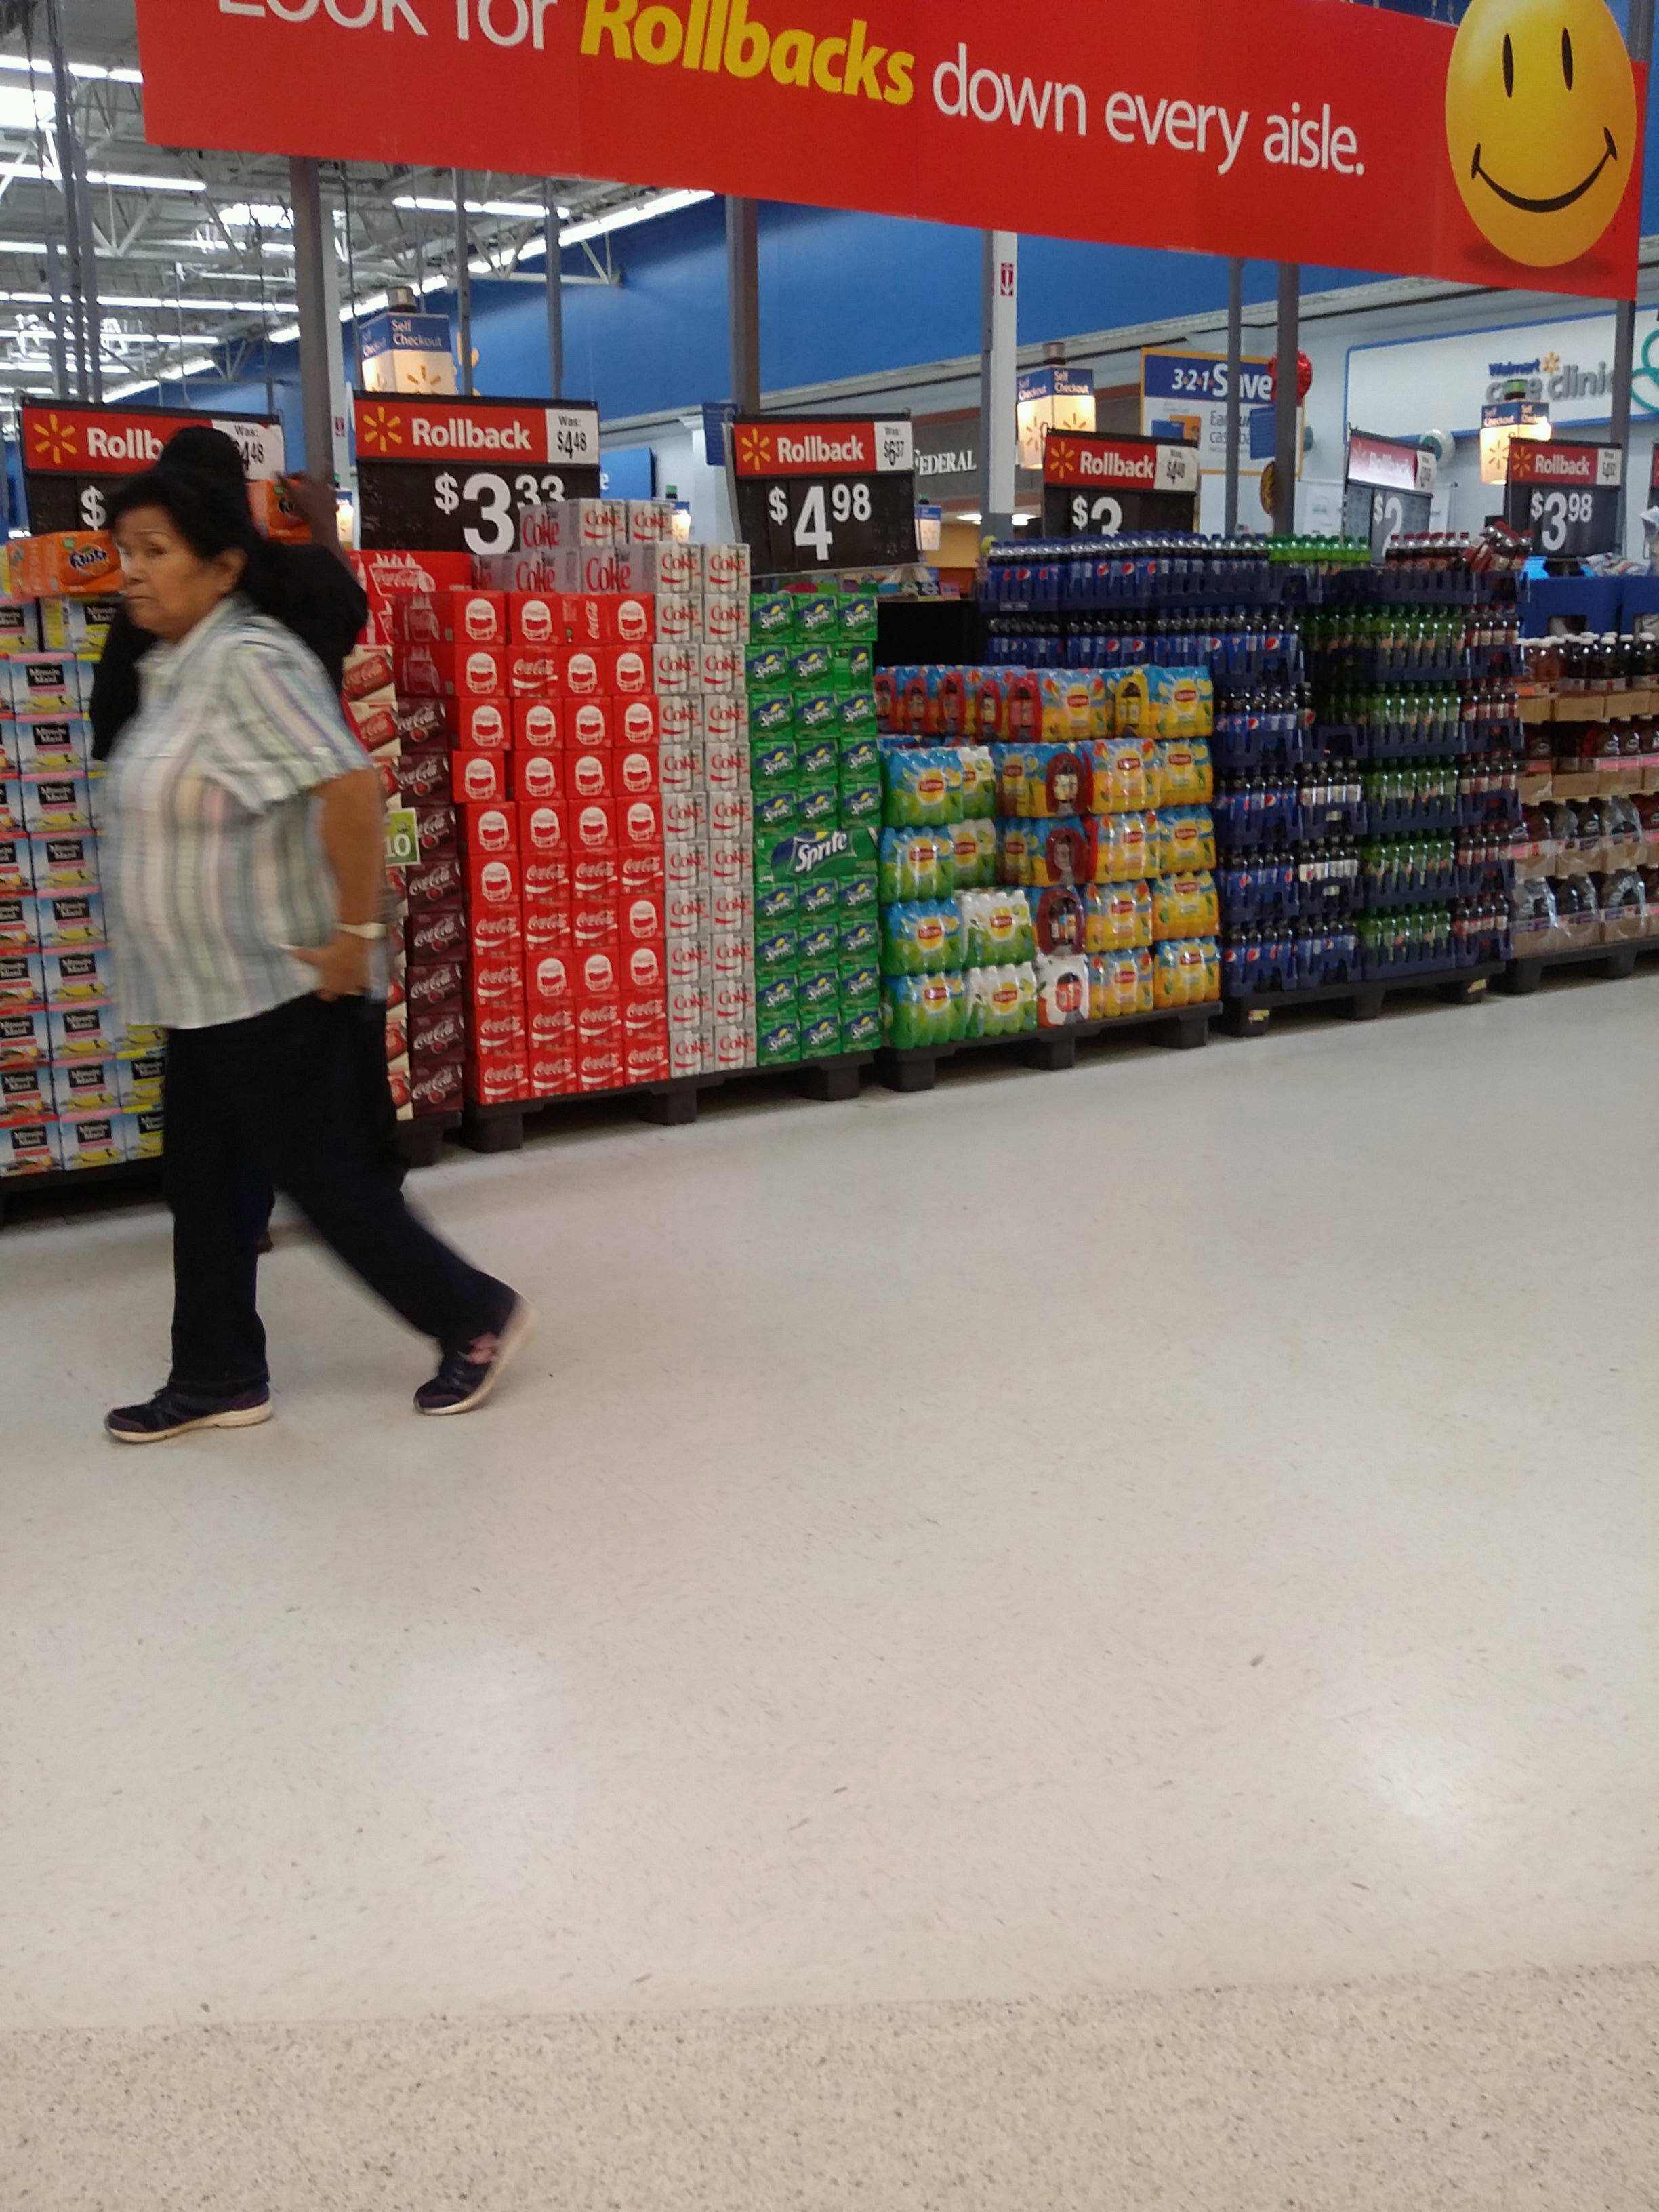product: (1124, 665, 1215, 735), (1026, 667, 1110, 737), (896, 745, 962, 824), (1018, 745, 1094, 812), (755, 833, 878, 873), (889, 907, 965, 968), (884, 829, 953, 894), (971, 967, 1040, 1029), (965, 899, 1033, 961), (1295, 536, 1373, 590), (1093, 812, 1157, 876), (1091, 880, 1152, 948), (896, 979, 967, 1036), (326, 641, 392, 700), (1096, 740, 1154, 808), (42, 948, 110, 1005), (1159, 941, 1220, 1003), (1093, 951, 1154, 1014), (14, 655, 80, 712), (1474, 533, 1530, 601), (1026, 822, 1091, 880), (21, 772, 87, 827), (51, 597, 125, 646), (1162, 806, 1220, 869), (1155, 742, 1213, 805), (31, 833, 96, 888), (1152, 880, 1218, 934), (124, 1106, 186, 1162), (19, 714, 82, 770), (37, 894, 105, 942), (408, 913, 469, 967), (1042, 885, 1089, 954), (61, 1109, 125, 1160), (333, 702, 397, 752), (52, 1059, 115, 1109), (1581, 716, 1622, 789), (403, 862, 465, 911), (396, 752, 451, 806), (448, 590, 505, 643), (408, 1015, 471, 1062), (120, 1052, 178, 1103), (1601, 876, 1645, 942), (1046, 954, 1089, 1019), (1530, 641, 1568, 714), (955, 827, 1000, 888), (403, 806, 453, 860), (507, 589, 556, 644), (408, 965, 465, 1012), (1595, 639, 1629, 716), (610, 693, 660, 745), (469, 852, 519, 904), (451, 751, 505, 799), (472, 954, 528, 1001), (411, 1062, 469, 1108), (51, 1007, 108, 1052), (568, 798, 619, 848), (655, 543, 706, 594), (3, 1122, 58, 1169), (1464, 758, 1492, 848), (1439, 606, 1471, 686), (457, 644, 507, 693), (458, 697, 507, 747), (474, 1005, 525, 1054), (556, 592, 603, 644), (563, 691, 608, 745), (655, 641, 701, 695), (514, 693, 558, 749), (1631, 631, 1659, 716), (613, 744, 662, 792), (469, 801, 518, 850), (519, 852, 568, 900), (509, 644, 556, 695), (606, 594, 653, 644), (556, 644, 606, 691), (518, 751, 565, 801), (528, 951, 575, 1001), (1251, 846, 1281, 927), (1330, 850, 1363, 921), (477, 1055, 532, 1099), (702, 641, 746, 695), (1525, 719, 1554, 798), (964, 747, 993, 826), (528, 1001, 575, 1050), (606, 643, 653, 691), (397, 700, 446, 747), (469, 906, 519, 951), (793, 639, 838, 690), (580, 1042, 626, 1092), (619, 796, 662, 848), (575, 498, 627, 542), (1243, 524, 1272, 599), (572, 848, 619, 895), (575, 995, 624, 1040), (620, 848, 666, 897), (619, 944, 667, 989), (626, 989, 669, 1040), (1493, 603, 1521, 681), (3, 1010, 45, 1062), (1255, 768, 1283, 845), (1412, 606, 1439, 683), (519, 805, 565, 852), (573, 899, 620, 944), (666, 885, 713, 930), (620, 895, 664, 944), (3, 1068, 52, 1111), (1422, 685, 1452, 754), (669, 935, 714, 981), (565, 751, 612, 794), (660, 594, 704, 641), (706, 742, 749, 789), (798, 784, 840, 833), (0, 599, 40, 650), (1326, 761, 1349, 850), (3, 953, 42, 1005), (525, 904, 568, 949), (706, 594, 749, 639), (671, 982, 714, 1028), (748, 644, 791, 690), (753, 742, 798, 786), (796, 594, 838, 641), (530, 1052, 577, 1094), (1424, 913, 1453, 979), (708, 543, 748, 592), (1305, 846, 1330, 927), (1392, 688, 1420, 758), (1617, 792, 1642, 871), (706, 695, 749, 738), (666, 792, 709, 836), (709, 838, 753, 881), (629, 500, 673, 543), (662, 745, 704, 791), (713, 981, 755, 1026), (751, 697, 796, 738), (1469, 603, 1492, 686), (758, 787, 798, 834), (1575, 796, 1600, 873), (1579, 876, 1601, 958), (575, 948, 619, 989), (660, 697, 702, 740), (709, 792, 753, 834), (674, 1029, 716, 1073), (798, 876, 840, 920), (1427, 759, 1448, 846), (1530, 799, 1553, 880), (798, 691, 836, 738), (842, 592, 878, 641), (1225, 604, 1246, 690), (1302, 765, 1324, 843), (1281, 848, 1304, 927), (1227, 848, 1249, 927), (1535, 880, 1558, 958), (838, 639, 873, 690), (666, 840, 708, 881), (749, 596, 791, 637), (756, 975, 798, 1017), (1483, 907, 1511, 970), (714, 885, 755, 928), (713, 934, 753, 977), (758, 1019, 802, 1059), (626, 1042, 669, 1082), (838, 691, 878, 735), (802, 970, 840, 1015), (798, 925, 836, 970), (1406, 758, 1425, 846), (2, 892, 33, 946), (1283, 766, 1304, 846), (803, 1017, 842, 1061), (843, 782, 882, 826), (798, 742, 836, 786), (1493, 758, 1513, 845), (1570, 639, 1595, 707), (1469, 688, 1493, 756), (1317, 925, 1340, 998), (1493, 690, 1520, 752), (1399, 918, 1425, 981), (1511, 887, 1534, 958), (1283, 603, 1300, 695), (758, 930, 798, 970), (842, 963, 880, 1005), (1448, 758, 1466, 848), (840, 878, 878, 918), (838, 740, 880, 777), (1554, 801, 1575, 874), (843, 1007, 877, 1052), (1387, 846, 1410, 913), (1265, 608, 1283, 693), (716, 1028, 755, 1066), (838, 927, 880, 961), (1246, 606, 1263, 690), (1349, 759, 1364, 852), (1488, 848, 1513, 906), (1236, 766, 1253, 846), (1464, 848, 1486, 909), (1622, 716, 1642, 787), (1248, 691, 1267, 763), (1246, 928, 1265, 1000), (1229, 928, 1248, 1000), (1561, 880, 1579, 958), (1459, 909, 1481, 968), (1387, 761, 1403, 846), (1188, 528, 1208, 597), (758, 888, 798, 921), (1600, 798, 1617, 873), (1225, 528, 1243, 603), (1154, 531, 1173, 599), (1371, 690, 1391, 758), (1281, 927, 1300, 995), (1378, 604, 1394, 686), (1513, 808, 1530, 881), (1302, 923, 1319, 996), (1134, 529, 1154, 596), (1396, 608, 1412, 688), (1642, 716, 1659, 786), (1230, 697, 1248, 766), (1284, 693, 1302, 763), (1380, 918, 1399, 981), (1643, 792, 1659, 867), (1410, 848, 1427, 914), (1371, 761, 1385, 843), (1368, 848, 1385, 913), (1443, 852, 1462, 909), (1269, 695, 1284, 765), (1265, 928, 1281, 995), (1344, 923, 1359, 988), (1427, 848, 1443, 913), (1366, 913, 1380, 984), (1173, 529, 1187, 599), (1209, 531, 1223, 601), (1452, 690, 1466, 758)
